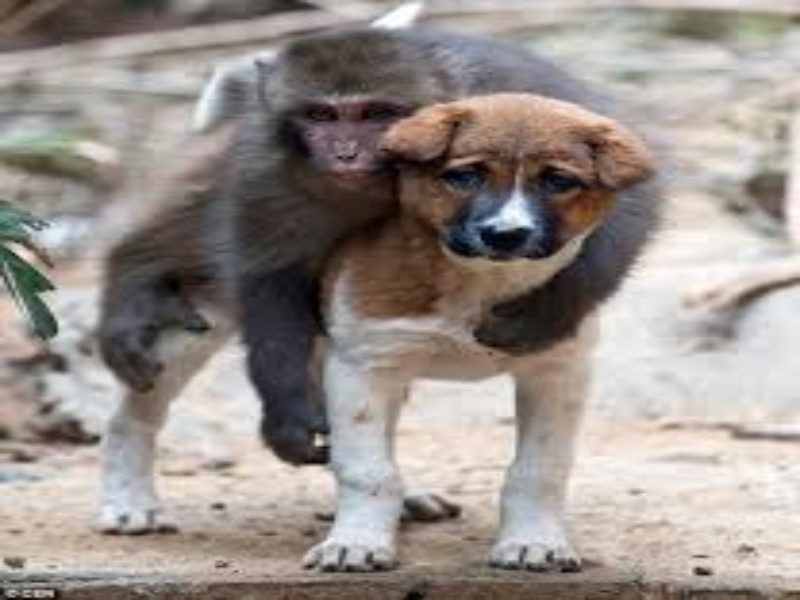dog: (390, 91, 654, 272)
monkey: (92, 30, 394, 469)
